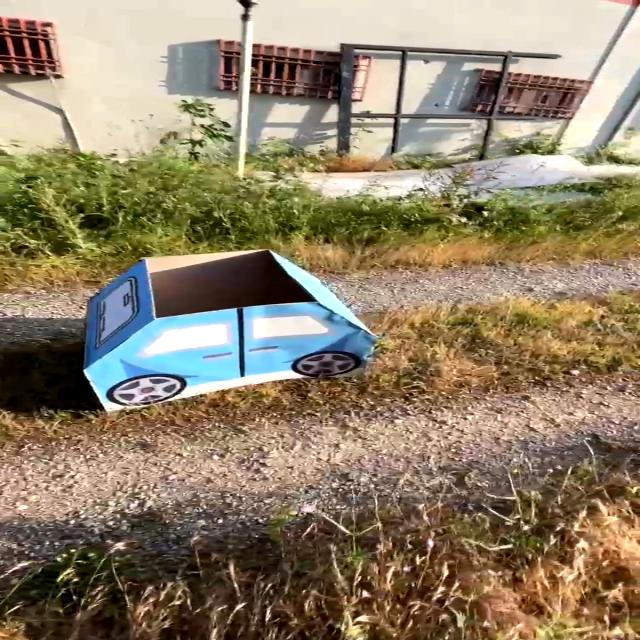blue_car: (24, 227, 429, 430)
